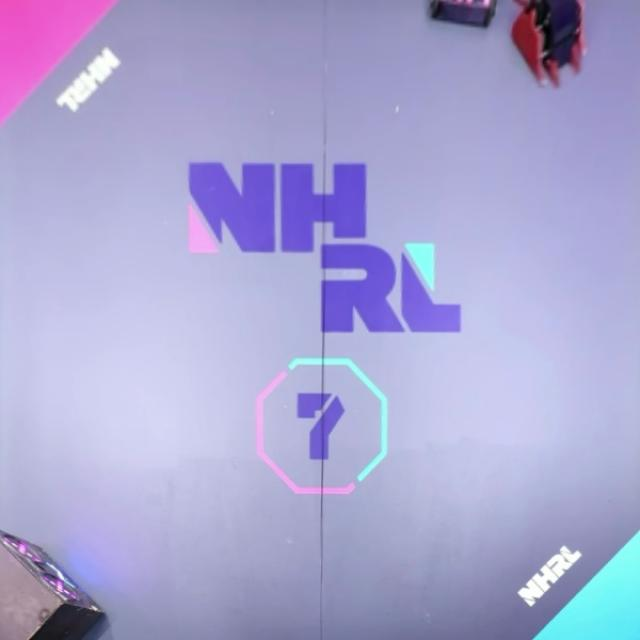housebot: (0, 526, 110, 640)
robot: (508, 0, 589, 89), (429, 0, 498, 32)
